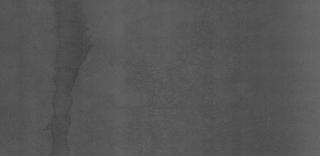water spot: (46, 5, 102, 150)
